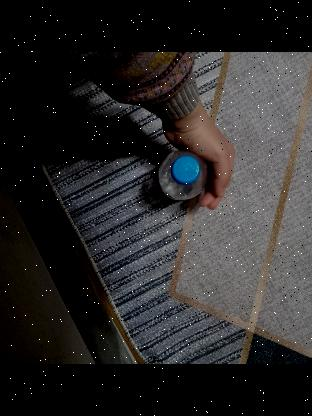Plastic Bottle: (156, 150, 208, 200)
